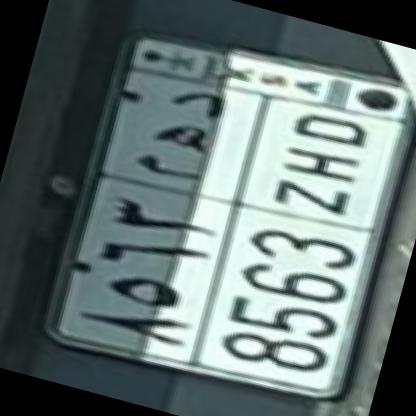english: (169, 76, 409, 416)
